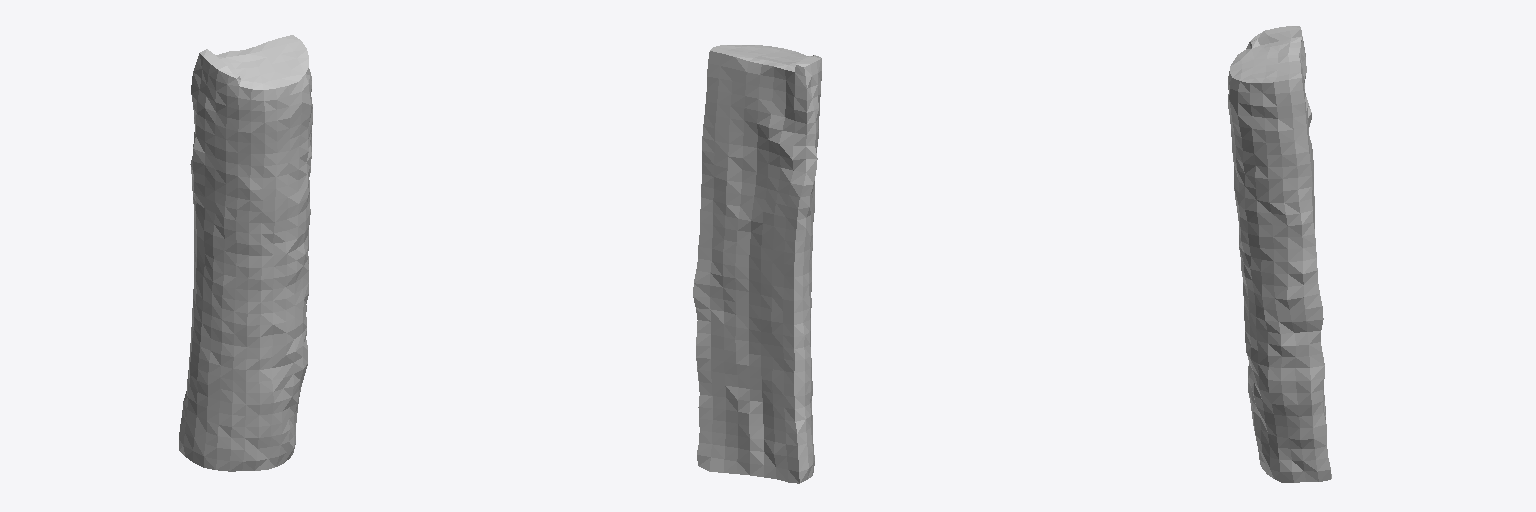
Rendered from log.obj.
3 views of the same model, side by side, from view 1: azimuth 30°, elevation 25°; view 2: azimuth 150°, elevation 25°; view 3: azimuth 270°, elevation 25° (orthographic).
Visible parts, largest first — view 1: Log_pine; view 2: Log_pine; view 3: Log_pine.
Part boxes in pixels (left/top/right/bottom): Log_pine: left=179, top=35, right=312, bottom=471; Log_pine: left=693, top=45, right=821, bottom=483; Log_pine: left=1228, top=26, right=1331, bottom=482.
Size of the model in its own units: 10.24 by 35.93 by 8.13.